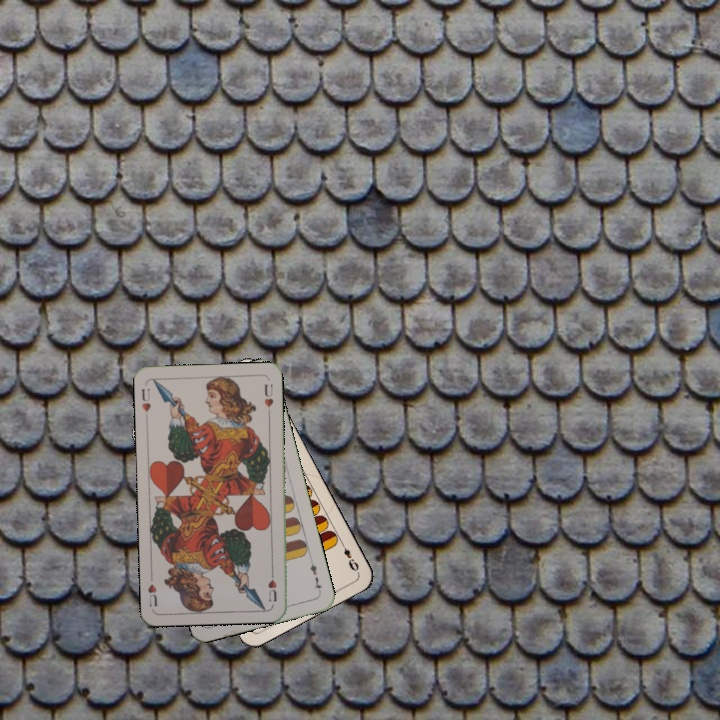E7: (306, 559, 324, 596)
E9: (337, 537, 361, 574)
HU: (264, 566, 279, 604), (138, 385, 153, 414)
